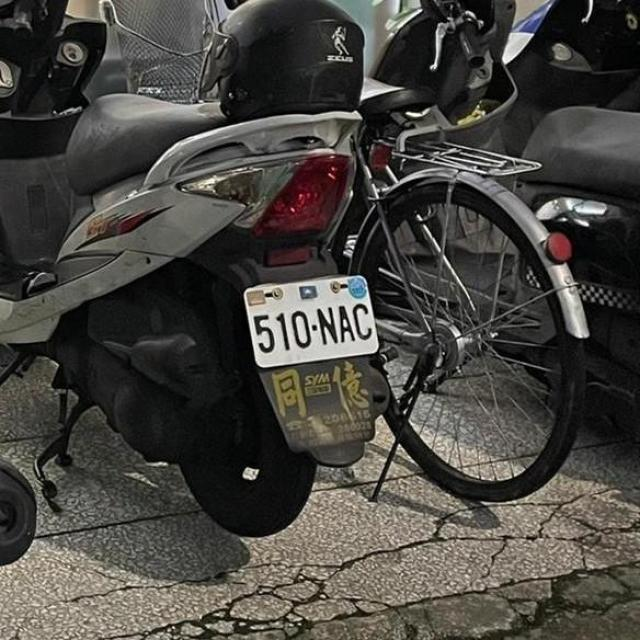W: (238, 266, 388, 373)
